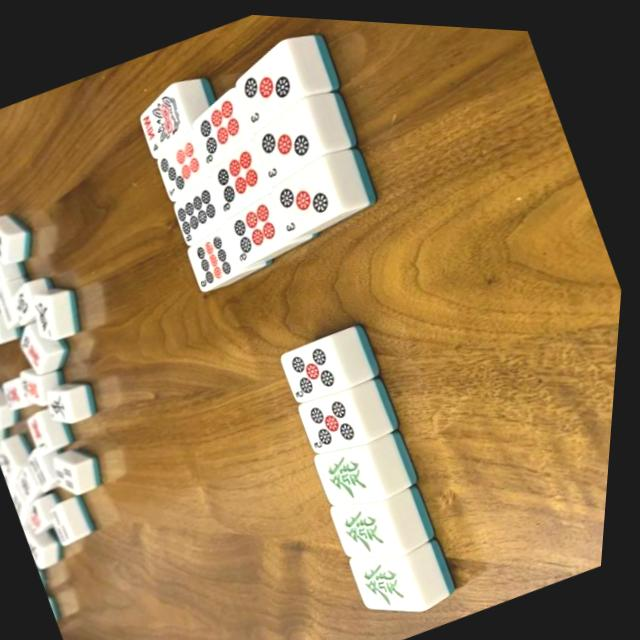bs4: (140, 81, 189, 159)
hdg: (318, 439, 392, 502), (335, 494, 411, 553), (356, 551, 433, 607)
sd3: (233, 36, 303, 130), (254, 94, 324, 185), (271, 151, 344, 237)
sd5: (283, 331, 353, 401), (302, 385, 372, 451)
sd6: (191, 83, 254, 170), (209, 135, 272, 218), (227, 189, 291, 264)
sd7: (157, 125, 209, 202)
sd8: (174, 174, 227, 246)
sd9: (190, 221, 245, 292)
